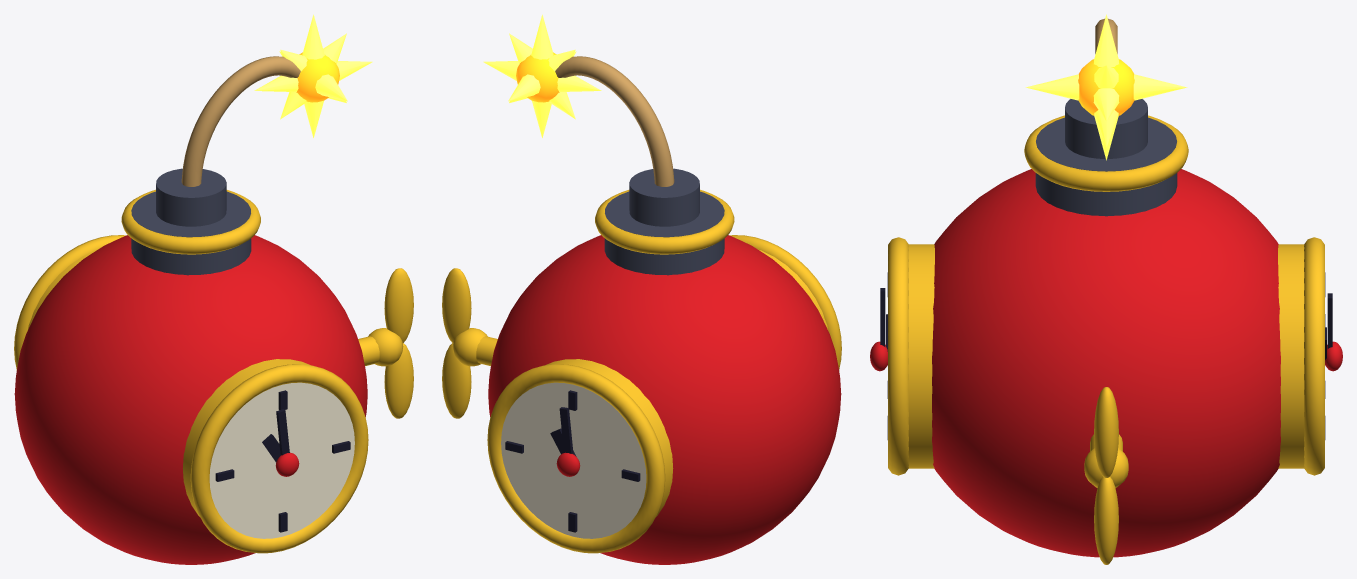
File: TimeBomb.glb
3 renders of one model, left to right at view 1: azimuth 30°, elevation 25°; view 2: azimuth 150°, elevation 25°; view 3: azimuth 270°, elevation 25°, orthographic. The views are drawn at different scales.
Visible parts, largest first — view 1: TimeBomb; view 2: TimeBomb; view 3: TimeBomb.
Boxes of the visible parts, x1,y1,x2,y2 form: TimeBomb: (14,14,413,564); TimeBomb: (442,14,841,564); TimeBomb: (870,14,1342,564).
Bounding box in the file's own units: 1.23 × 1.58 × 1.14.
